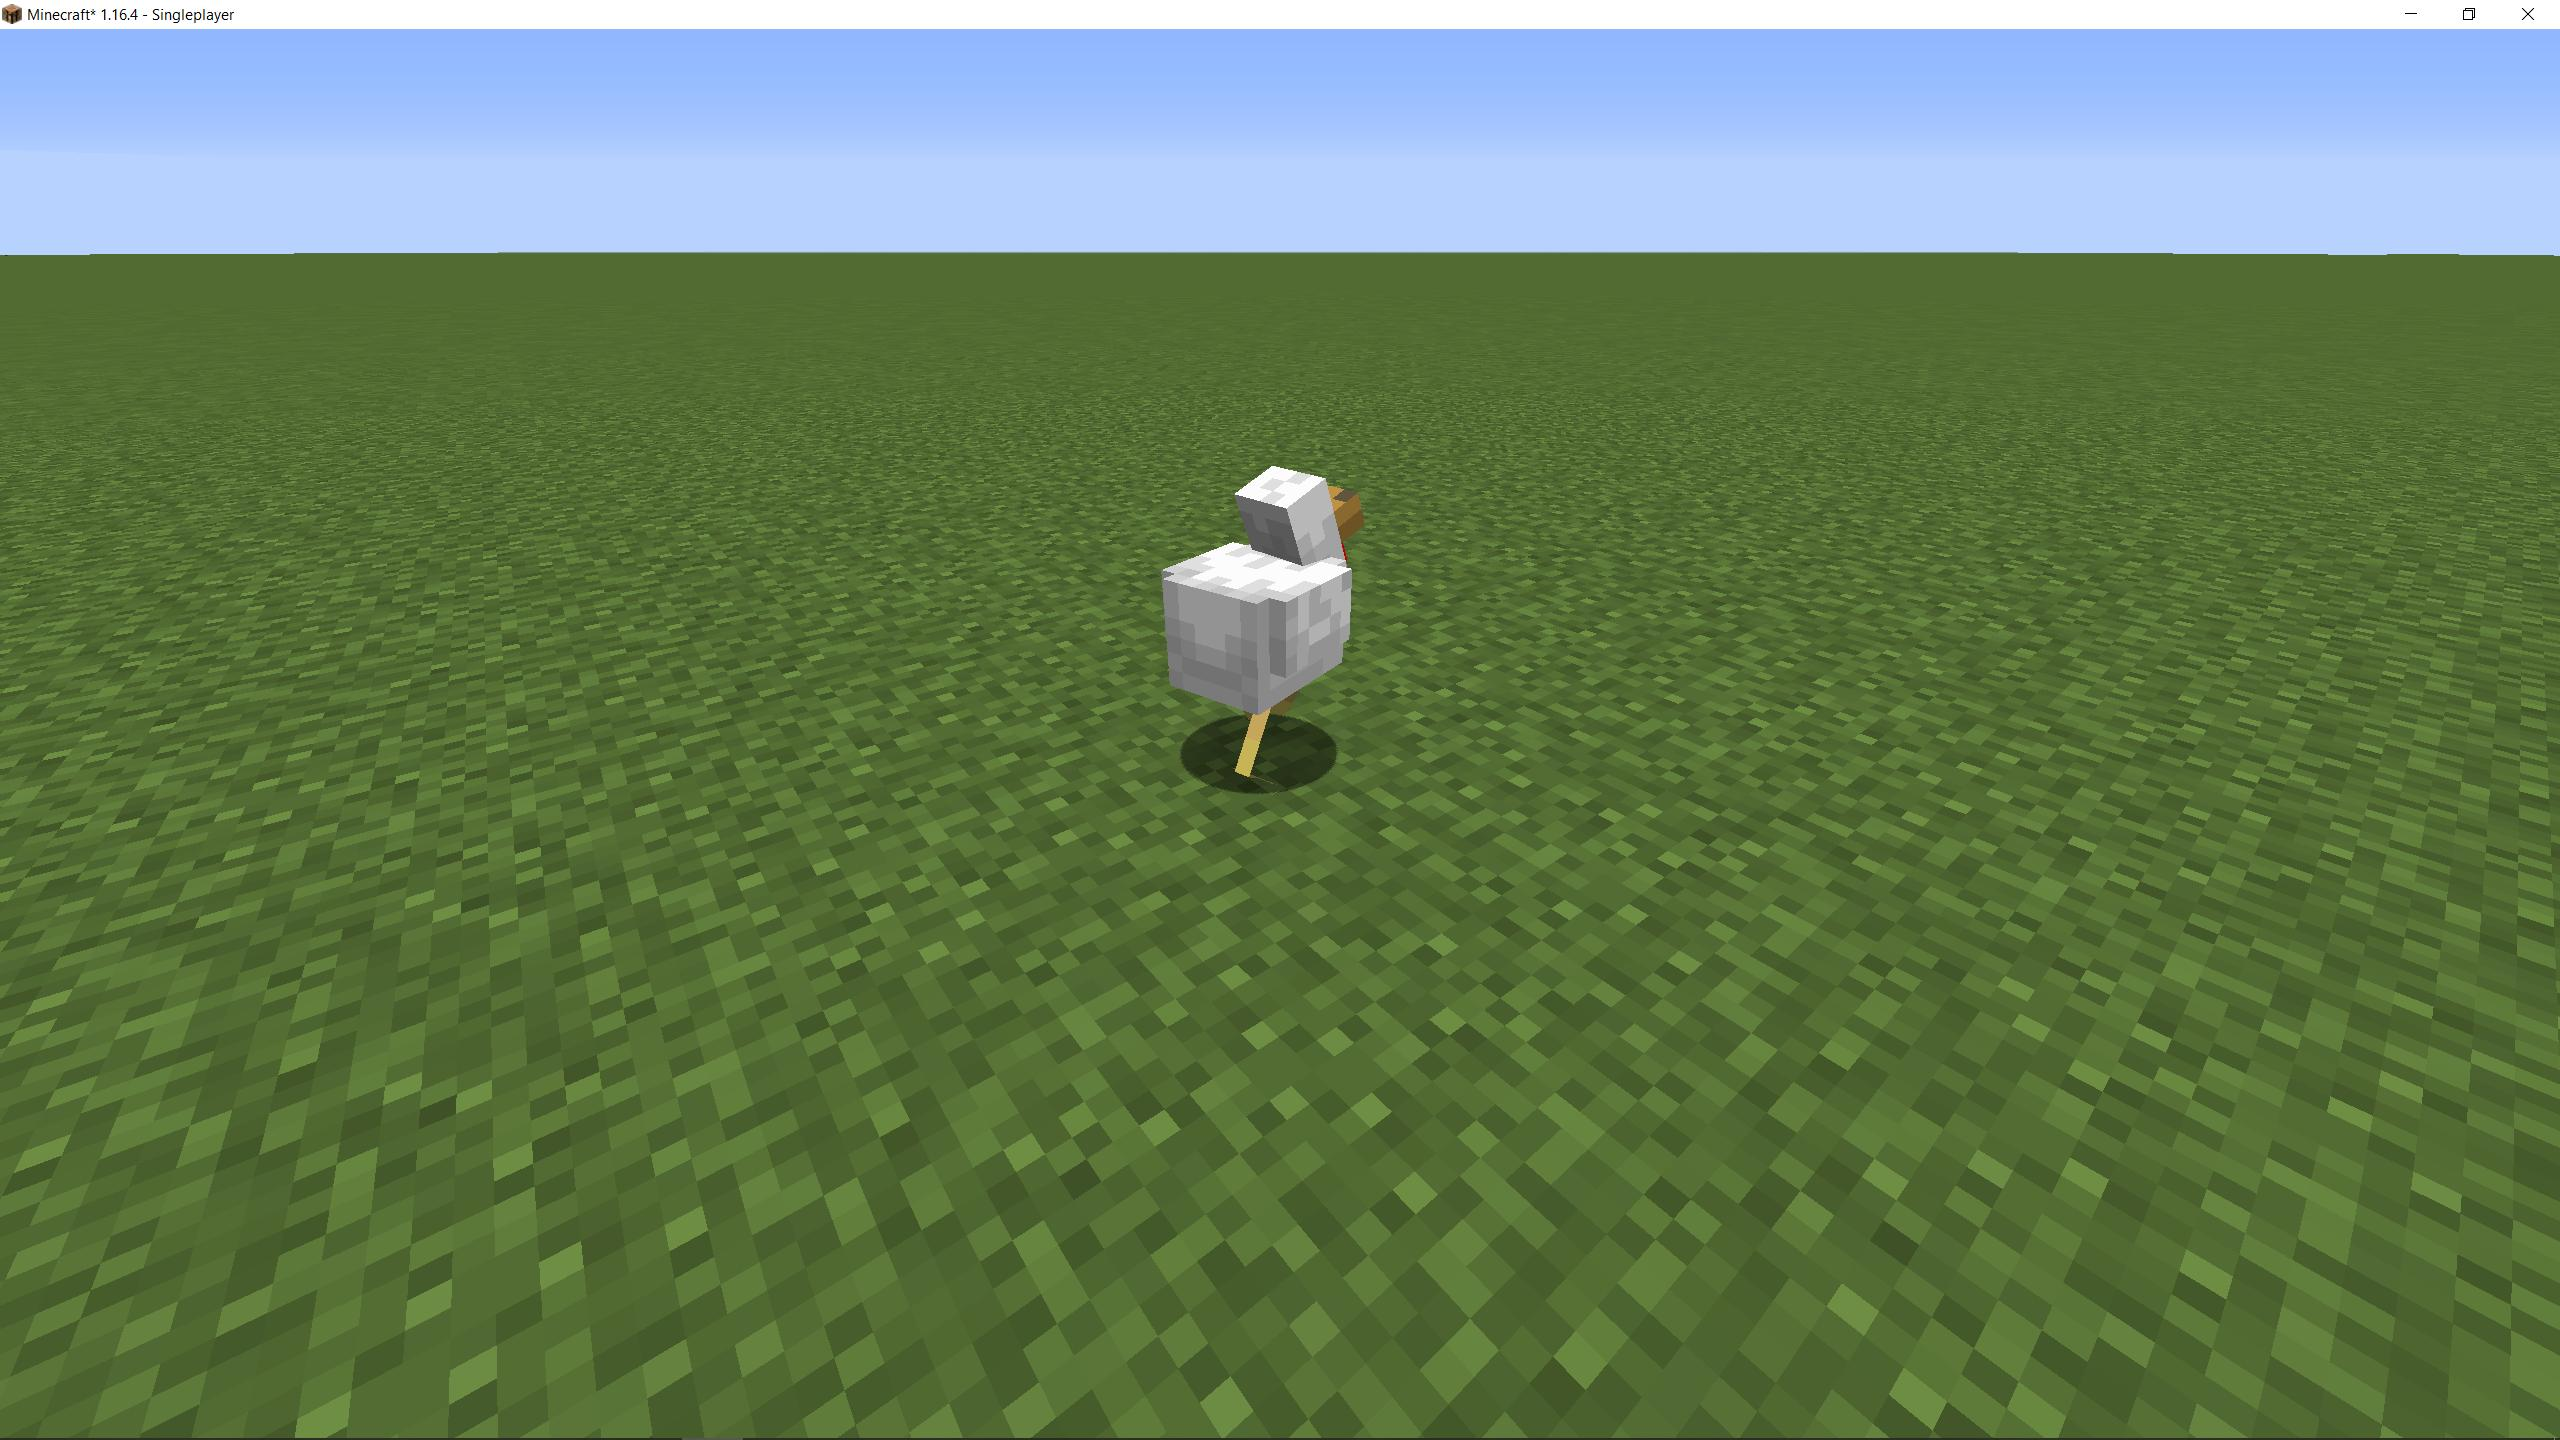chicken: (1153, 452, 1377, 795)
